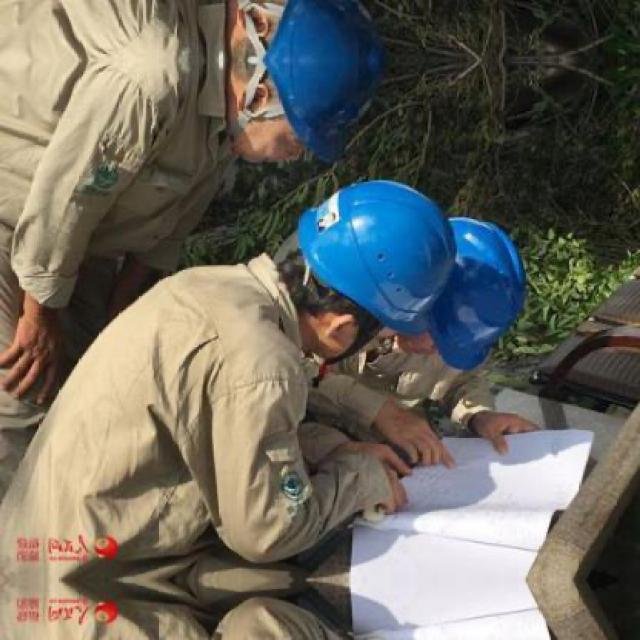helmet: (288, 174, 460, 361), (389, 218, 529, 376), (218, 60, 384, 165), (217, 0, 385, 62)
